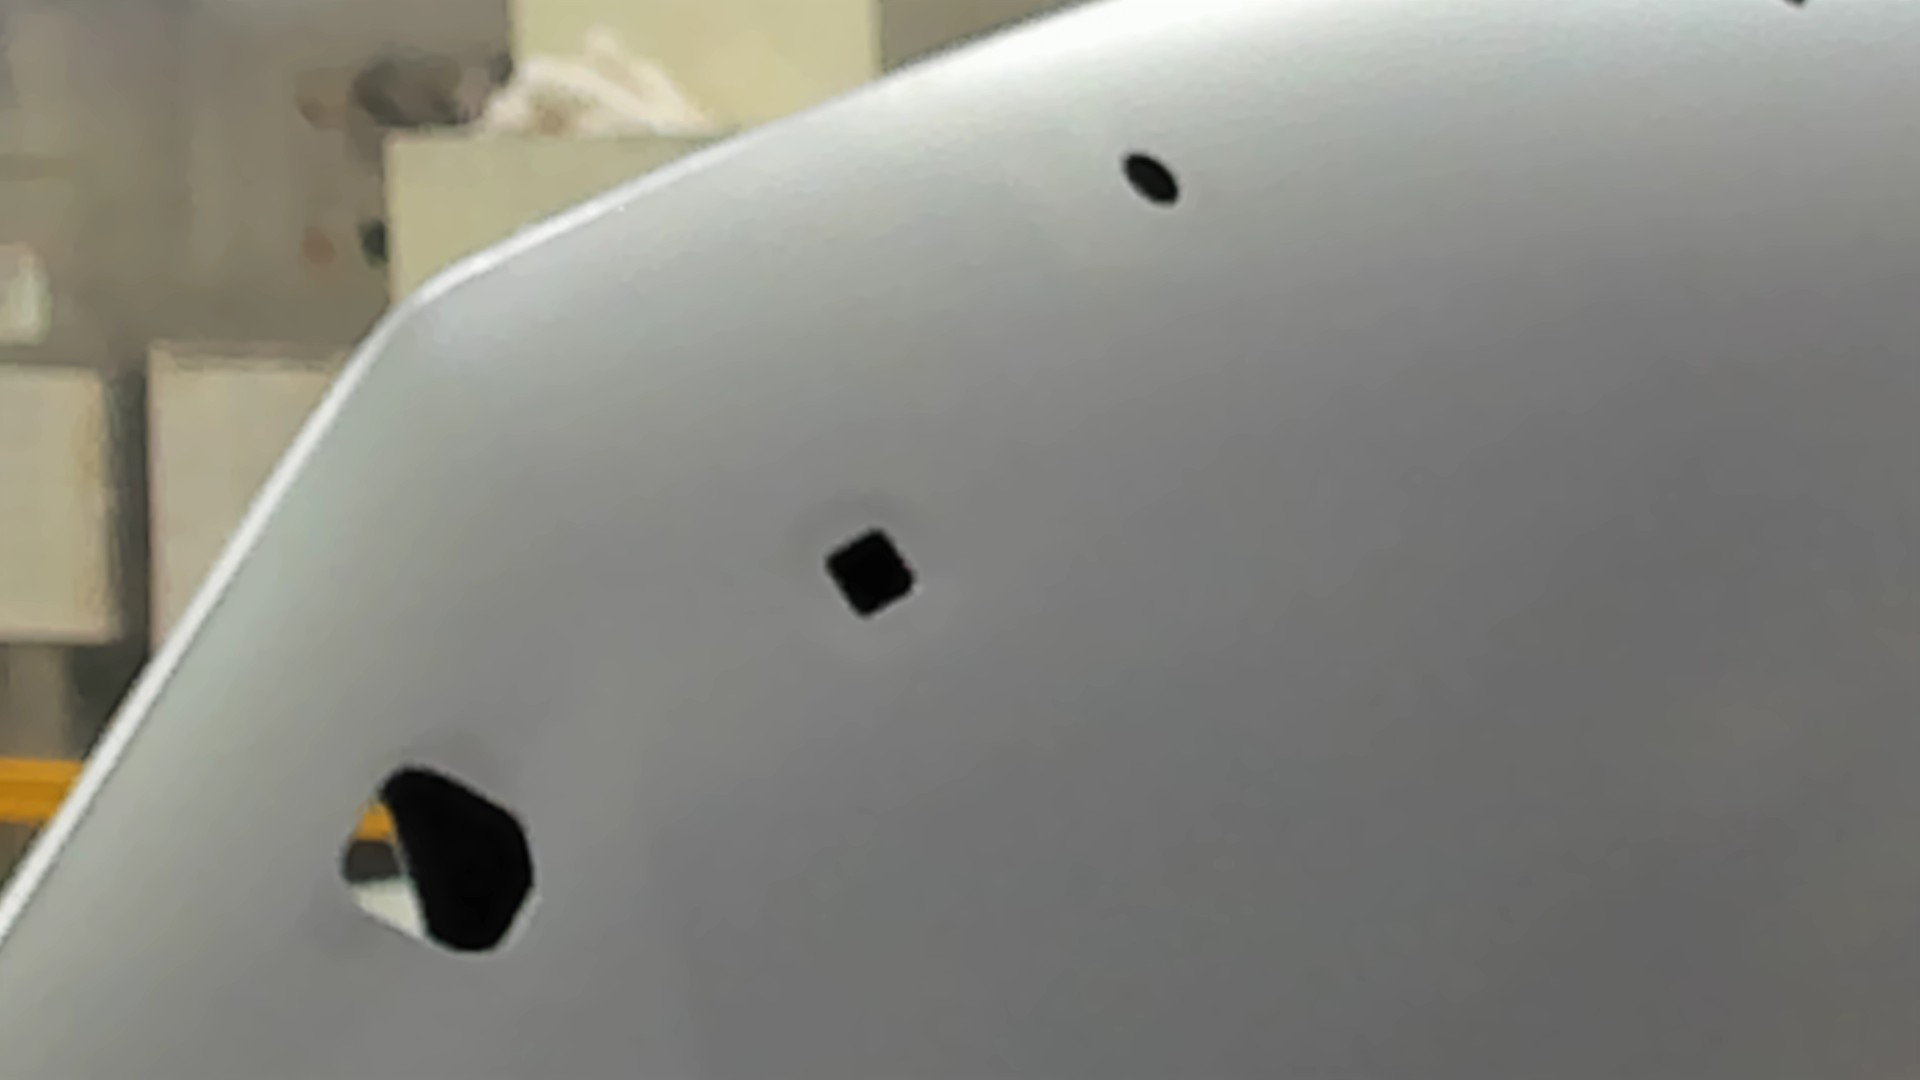capo: (928, 215, 1920, 1080)
chico: (1114, 146, 1185, 214)
grande: (327, 758, 549, 967)
mediano: (816, 520, 923, 626)
